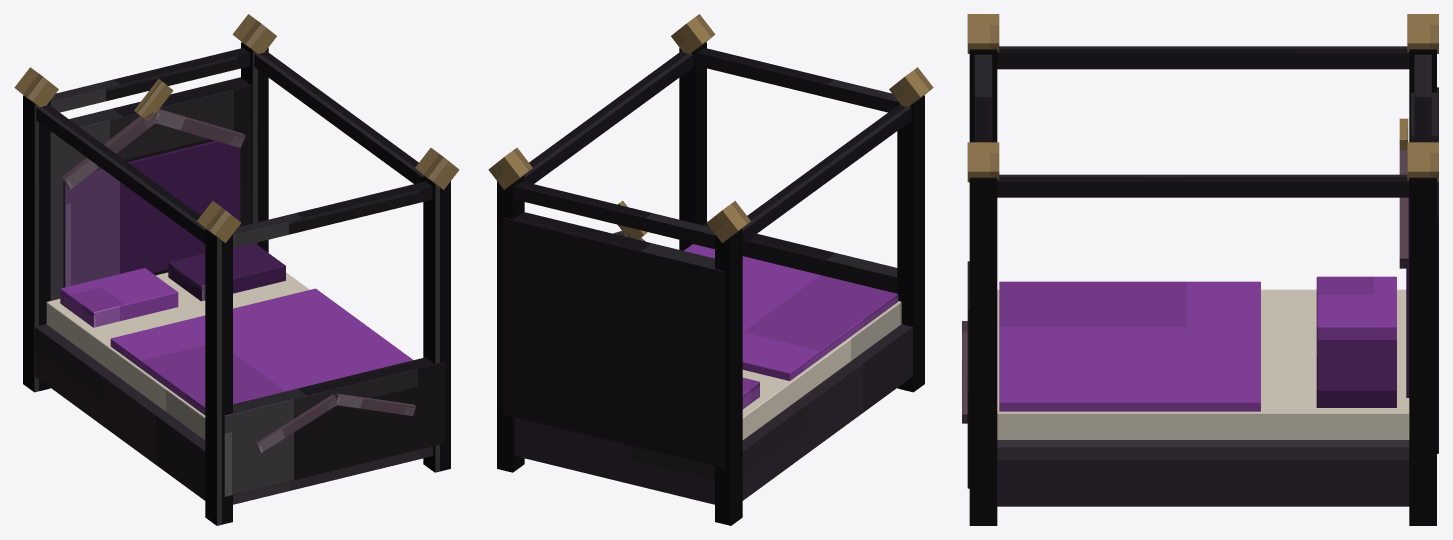
The model's file is gothic_double_bed_violet.glb.
3 renders of one model, left to right at view 1: azimuth 30°, elevation 25°; view 2: azimuth 150°, elevation 25°; view 3: azimuth 270°, elevation 25°, orthographic. The views are drawn at different scales.
Visible parts, largest first — view 1: GothicFootboard, GothicBlanket, HeadboardVelvet, GothicBedFrame, TallHeadboard, GothicMattress, FootPostL, HeadPostL, FootPostR, GothicPillow_1, CanopySideL, CanopySideR (+13 smaller); view 2: TallHeadboard, GothicBedFrame, GothicBlanket, FootPostL, HeadPostL, GothicMattress, FootPostR, CanopySideL, CanopySideR, CanopyHeadRail, GothicFootboard, CanopyFootRail (+5 smaller); view 3: GothicBlanket, GothicBedFrame, GothicMattress, FootPostR, CanopySideL, CanopySideR, HeadPostR, GothicPillow_2, GothicPillow_1, CanopyFootRail, CanopyHeadRail, FootPostL (+10 smaller).
Boxes of the visible parts, left/top/right/bottom form: GothicFootboard: left=223, top=357, right=444, bottom=496; GothicBlanket: left=110, top=288, right=413, bottom=415; HeadboardVelvet: left=63, top=141, right=240, bottom=287; GothicBedFrame: left=35, top=324, right=433, bottom=504; TallHeadboard: left=50, top=77, right=251, bottom=300; GothicMattress: left=46, top=272, right=309, bottom=439; FootPostL: left=205, top=229, right=232, bottom=525; HeadPostL: left=23, top=95, right=50, bottom=392; FootPostR: left=423, top=175, right=450, bottom=472; GothicPillow_1: left=60, top=268, right=178, bottom=327; CanopySideL: left=36, top=104, right=205, bottom=243; CanopySideR: left=254, top=51, right=423, bottom=183; TallHeadboard: left=503, top=212, right=724, bottom=468; GothicBedFrame: left=514, top=324, right=912, bottom=504; GothicBlanket: left=684, top=244, right=898, bottom=380; FootPostL: left=897, top=95, right=924, bottom=392; HeadPostL: left=715, top=229, right=742, bottom=525; GothicMattress: left=742, top=301, right=901, bottom=439; FootPostR: left=679, top=42, right=706, bottom=250; CanopySideL: left=742, top=104, right=911, bottom=243; CanopySideR: left=524, top=51, right=693, bottom=183; CanopyHeadRail: left=515, top=181, right=714, bottom=248; GothicFootboard: left=697, top=221, right=897, bottom=293; CanopyFootRail: left=697, top=48, right=897, bottom=112; GothicBlanket: left=999, top=281, right=1260, bottom=411; GothicBedFrame: left=997, top=440, right=1409, bottom=506; GothicMattress: left=997, top=289, right=1409, bottom=439; FootPostR: left=969, top=177, right=997, bottom=525; CanopySideL: left=997, top=46, right=1409, bottom=69; CanopySideR: left=997, top=174, right=1409, bottom=197; HeadPostR: left=1409, top=177, right=1436, bottom=525; GothicPillow_2: left=1316, top=340, right=1396, bottom=407; GothicPillow_1: left=1316, top=276, right=1396, bottom=340; CanopyFootRail: left=974, top=54, right=992, bottom=142; CanopyHeadRail: left=1414, top=54, right=1431, bottom=142; FootPostL: left=969, top=49, right=997, bottom=142.
Size of the model in its own units: 1.99 by 2.4 by 2.73.
1 material, 1 textured.
